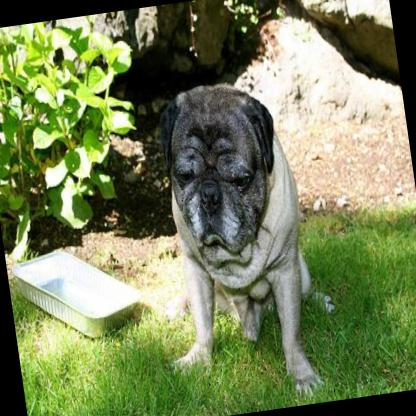pug: (134, 72, 346, 415)
